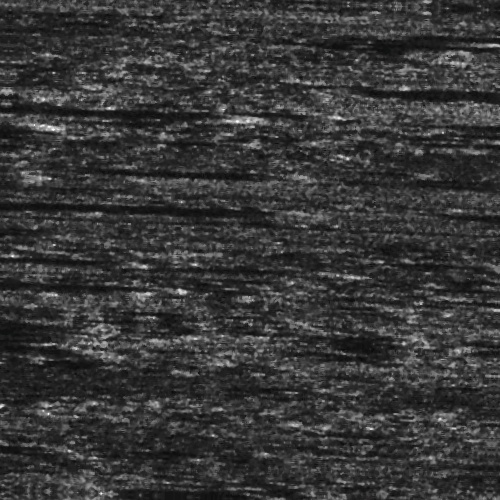object: (98, 258, 161, 277), (229, 205, 334, 216), (60, 347, 123, 364), (180, 112, 263, 123), (288, 263, 361, 270), (468, 32, 500, 45), (0, 131, 68, 136), (255, 275, 318, 280), (17, 451, 80, 456), (439, 30, 500, 35), (27, 238, 80, 243), (477, 252, 500, 261), (489, 165, 500, 176), (271, 172, 302, 175), (157, 290, 188, 293), (488, 23, 500, 30), (0, 408, 9, 415)
shadow: (5, 205, 281, 216), (310, 32, 500, 45), (0, 258, 129, 277), (0, 112, 221, 123), (0, 347, 91, 364), (139, 263, 324, 270), (418, 252, 500, 261), (338, 30, 470, 35), (441, 165, 500, 176), (0, 290, 173, 293), (193, 275, 286, 280), (147, 172, 287, 175), (435, 131, 500, 136), (0, 238, 54, 243), (465, 23, 500, 30), (0, 451, 49, 456), (424, 114, 500, 117), (0, 131, 31, 136)
